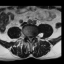CCS_normal: (29, 36, 31, 43)
LFS_severe_stenosis: (33, 35, 35, 40)
LLS_severe_stenosis: (31, 35, 33, 41)
RFS_severe_stenosis: (25, 34, 27, 39)
RLS_stenosis: (27, 35, 29, 39)
